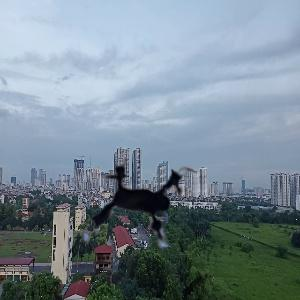drone: (69, 139, 219, 289)
